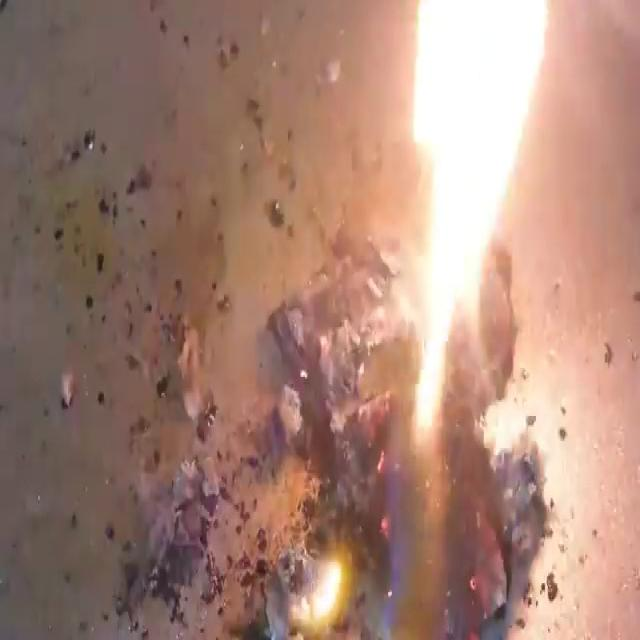Fire: (261, 0, 572, 640)
